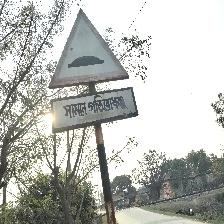Speed-breaker: (48, 8, 135, 135)
